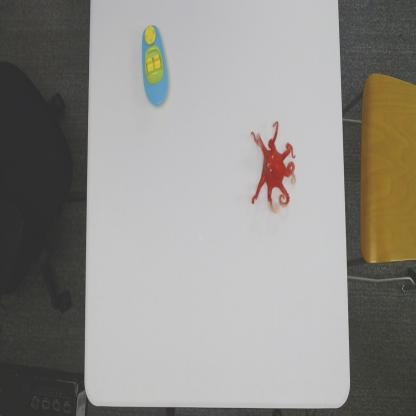Boat: (140, 22, 170, 108)
Octopus: (250, 119, 298, 217)
